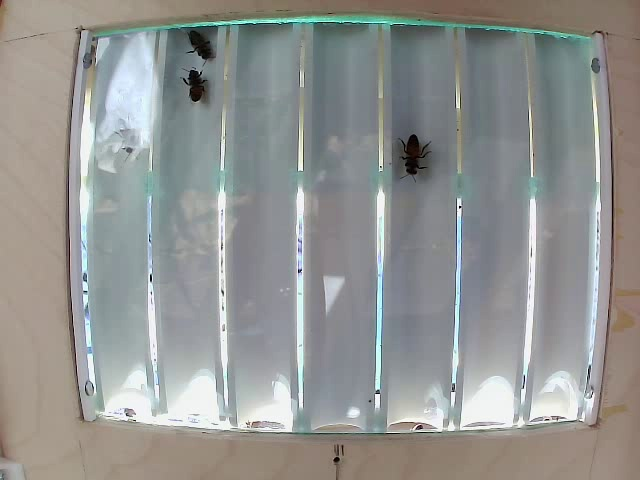bee: (384, 125, 448, 187), (171, 63, 211, 106), (182, 18, 226, 54)
